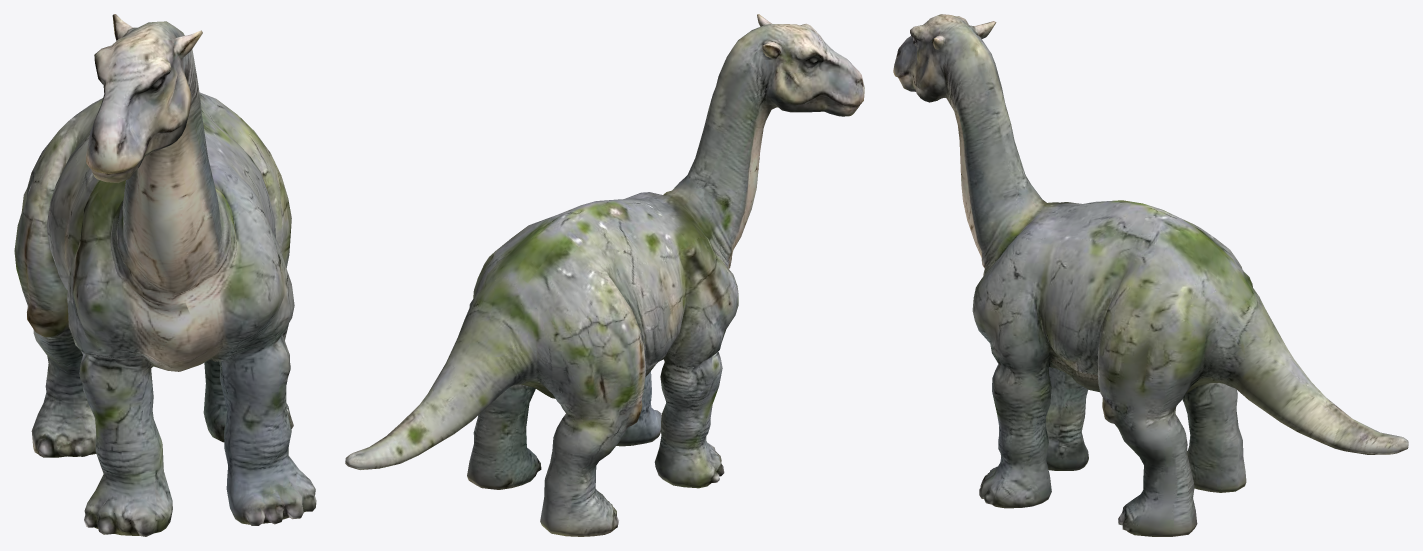
File: dino-sauropod.glb
3 views of the same model, side by side, from view 1: azimuth 30°, elevation 25°; view 2: azimuth 150°, elevation 25°; view 3: azimuth 270°, elevation 25° (orthographic). The views are drawn at different scales.
Parts seen in each view (by area): view 1: low; view 2: low; view 3: low.
Part boxes in pixels (x1,y1,x2,y2): low: (14, 14, 316, 536); low: (345, 14, 864, 536); low: (893, 14, 1408, 536).
Size of the model in its own units: 7.38 by 10.95 by 12.
1 material, 1 textured.
